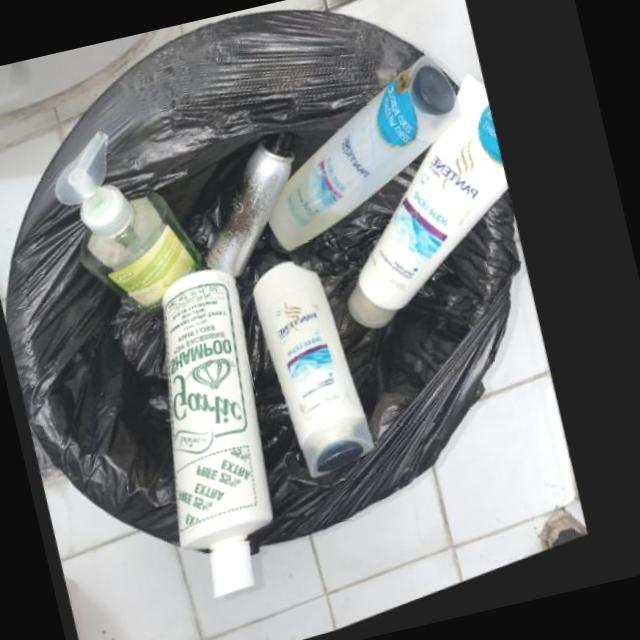chai_nhua: (354, 78, 514, 330), (166, 268, 283, 598), (272, 59, 465, 252), (56, 132, 206, 312), (258, 262, 383, 478)
nhom: (210, 136, 299, 278)
